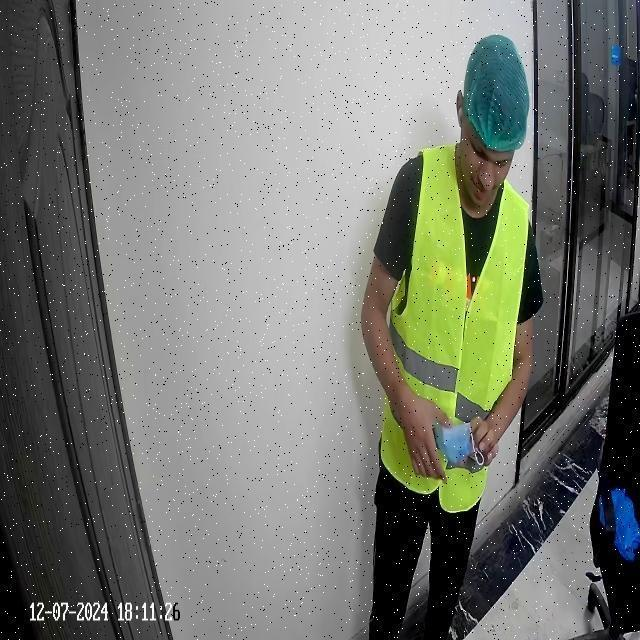gloves: (463, 45, 532, 132)
no_apron: (386, 394, 452, 480), (474, 409, 502, 454)
no_hairnet: (454, 154, 502, 212)
